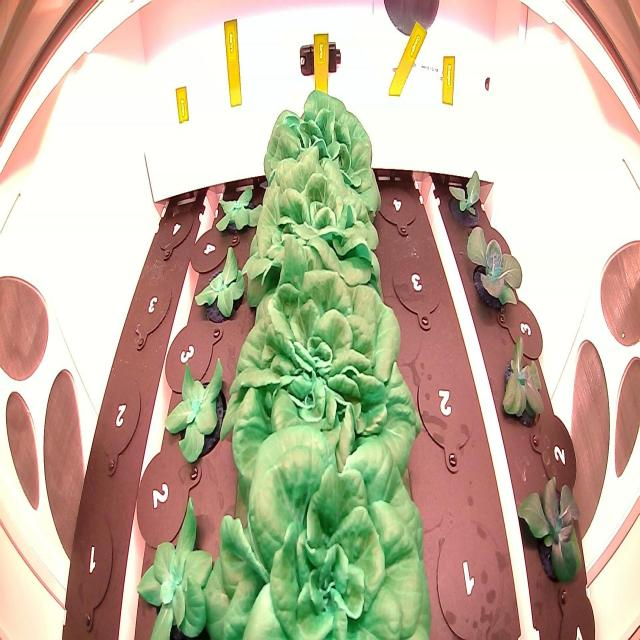Ready: (197, 413, 438, 640), (217, 265, 425, 508), (240, 143, 384, 310), (256, 87, 388, 229)
empty_pod: (428, 516, 510, 640), (412, 341, 479, 480), (66, 506, 116, 622), (94, 368, 144, 478), (125, 263, 178, 357), (387, 248, 449, 328), (372, 169, 425, 237), (152, 186, 197, 264)
young: (133, 488, 225, 640), (513, 459, 589, 597), (161, 350, 231, 470), (456, 218, 528, 322), (493, 332, 552, 430), (190, 242, 250, 334), (210, 176, 268, 245), (438, 165, 492, 237)
